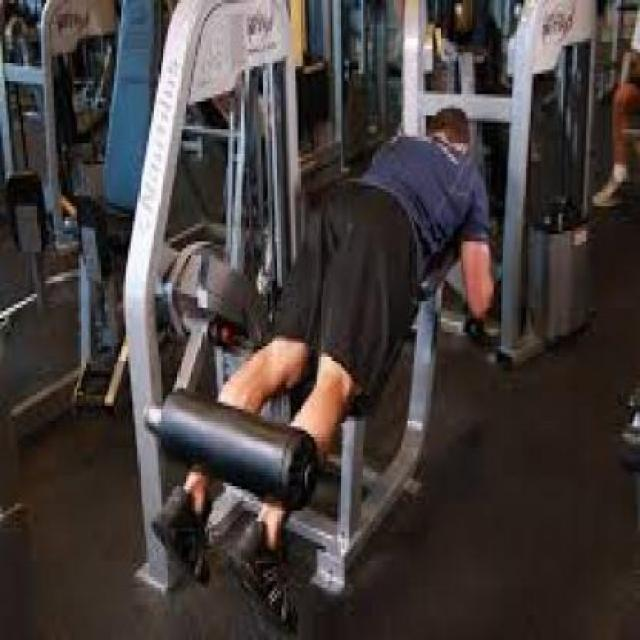reg curl machine: (117, 0, 500, 626)
